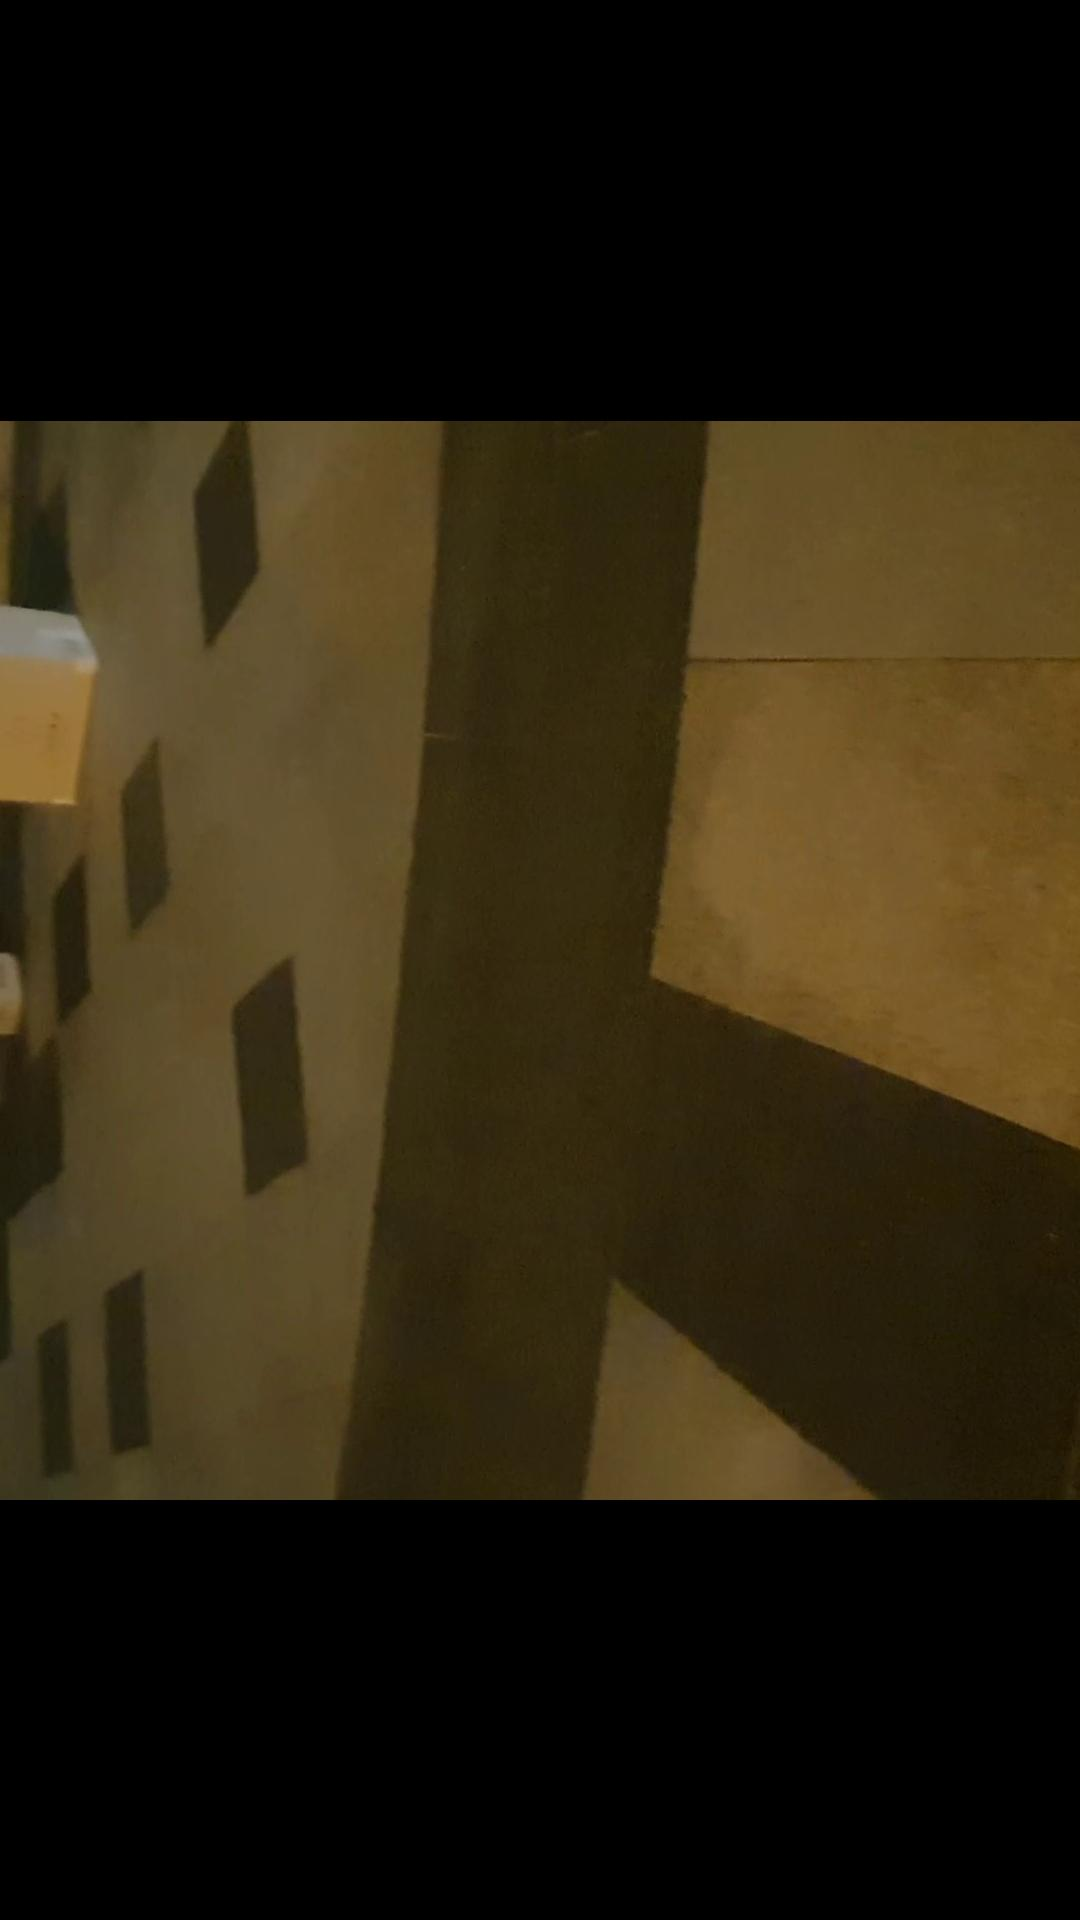Box: (0, 597, 100, 812), (0, 948, 22, 1027)
